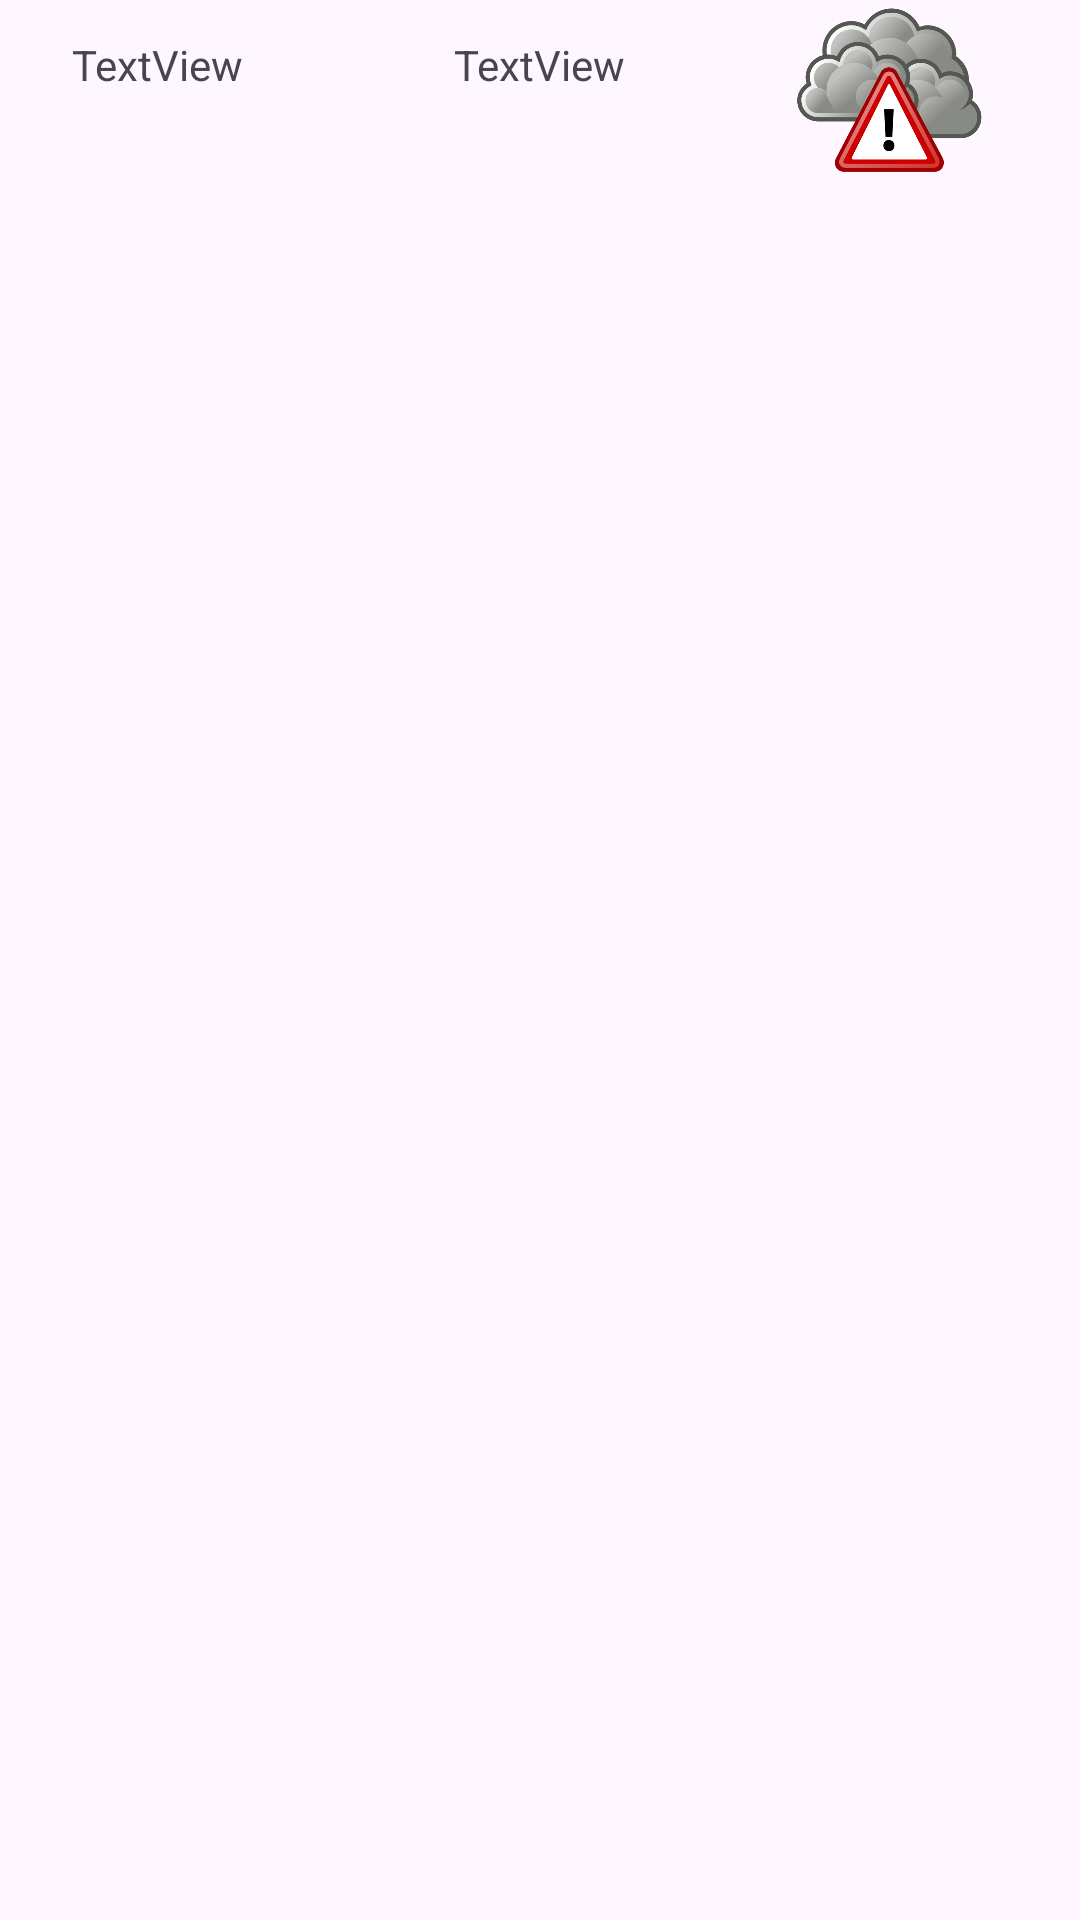

Locate icon controls on the screen. Image size 1080x1920, boxes as [x1=x1, y1=y1, x2=x2, y2=y2].
air bad: [x1=797, y1=8, x2=982, y2=172]
